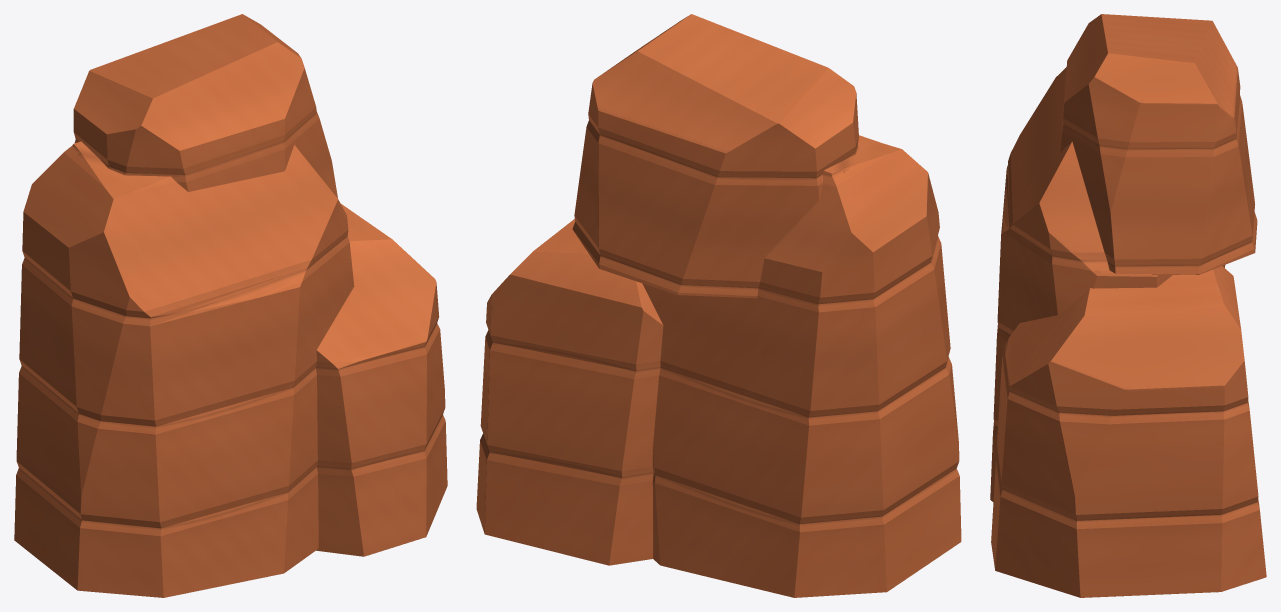
Rendered from CanyonWall_A.fbx.
3 views of the same model, side by side, from view 1: azimuth 30°, elevation 25°; view 2: azimuth 150°, elevation 25°; view 3: azimuth 270°, elevation 25° (orthographic). The views are drawn at different scales.
Visible parts, largest first — view 1: CanyonWall_A; view 2: CanyonWall_A; view 3: CanyonWall_A.
Boxes of the visible parts, <box> form: CanyonWall_A: <box>14,14,447,597</box>; CanyonWall_A: <box>476,14,961,597</box>; CanyonWall_A: <box>990,14,1266,597</box>.
Size of the model in its own units: 32 by 38 by 20.
1 material, 1 textured.
